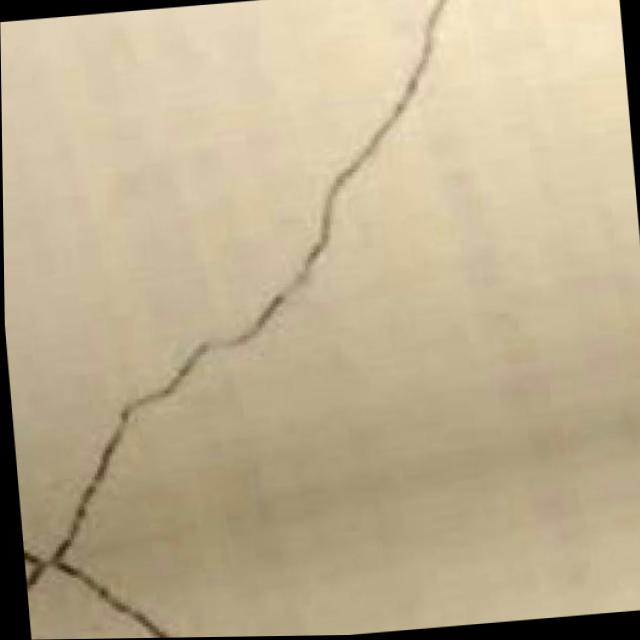Crack: (14, 0, 519, 507), (18, 489, 206, 640)
